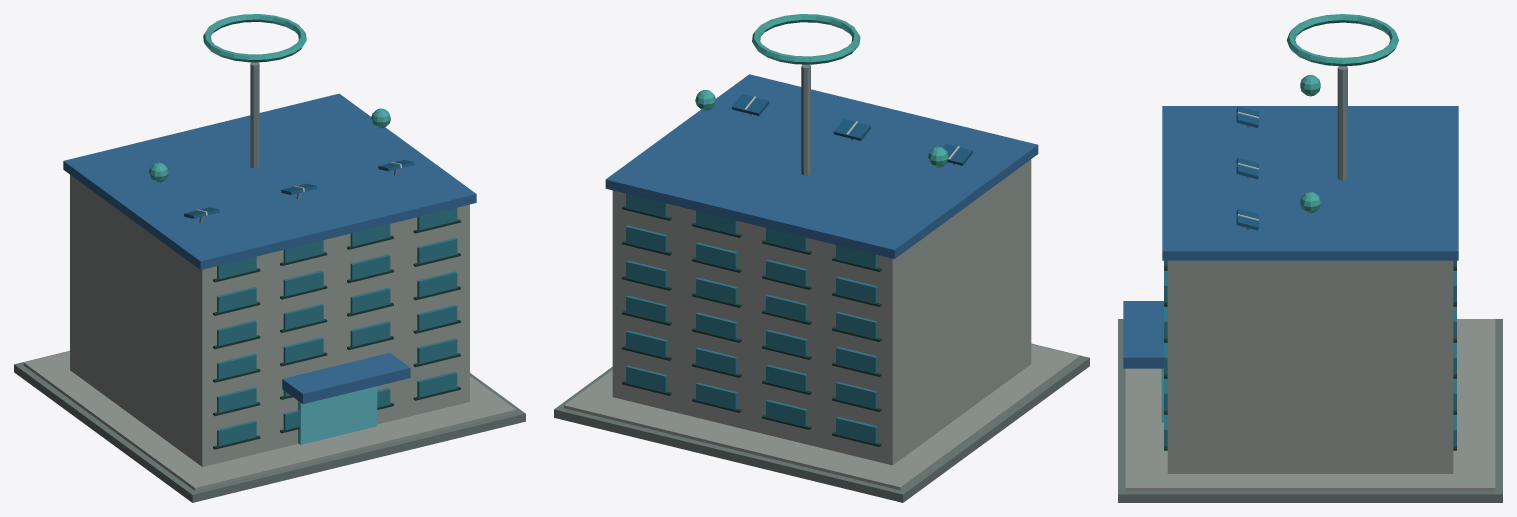
File: security_hub_lv4.glb
3 renders of one model, left to right at view 1: azimuth 30°, elevation 25°; view 2: azimuth 150°, elevation 25°; view 3: azimuth 270°, elevation 25°, orthographic. The views are drawn at different scales.
Parts seen in each view (by area): view 1: rough, glossy, metallic; view 2: rough, glossy, metallic; view 3: rough, metallic, glossy.
Part boxes in pixels (bbox=[...]): rough: bbox=[14, 14, 525, 502]; glossy: bbox=[217, 207, 457, 446]; metallic: bbox=[184, 62, 414, 223]; rough: bbox=[554, 14, 1089, 502]; glossy: bbox=[626, 193, 877, 443]; metallic: bbox=[731, 64, 972, 175]; rough: bbox=[1118, 14, 1502, 502]; metallic: bbox=[1236, 66, 1347, 230]; glossy: bbox=[1161, 260, 1456, 446].
Bounding box in the file's own units: 9.6 × 9.66 × 8.9.
